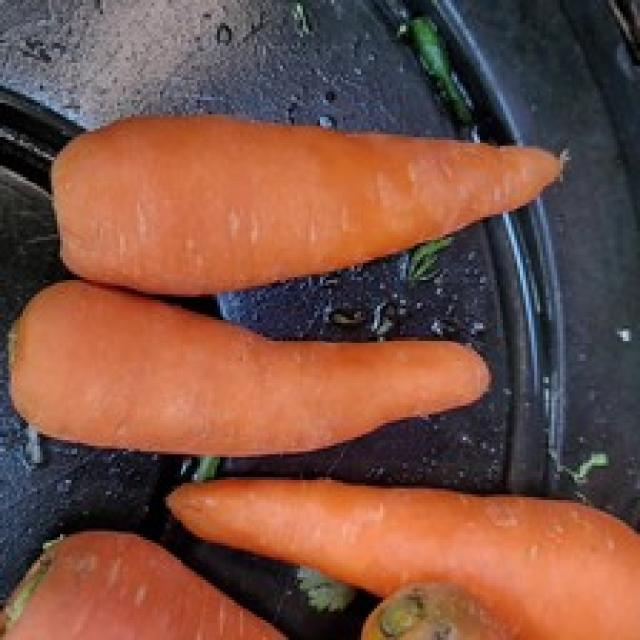Fresh_Carrot: (74, 126, 600, 253), (38, 295, 482, 440), (165, 474, 640, 591)
